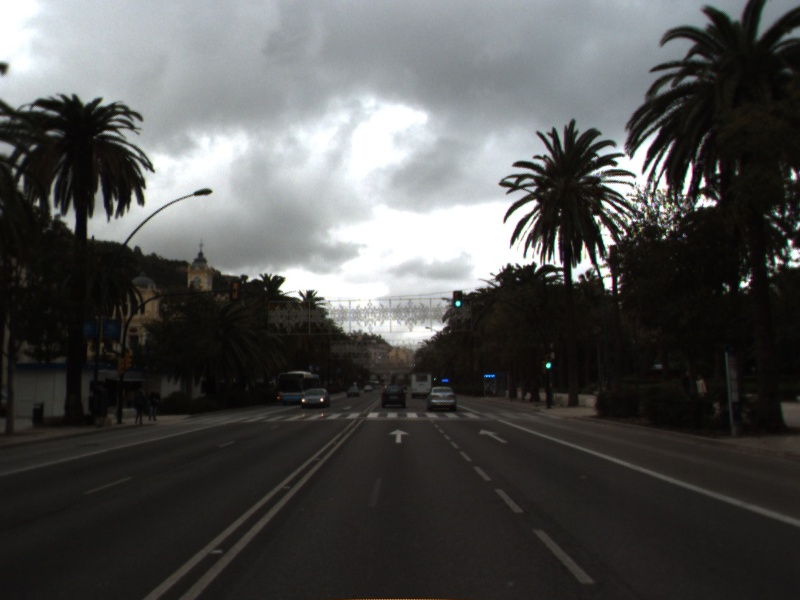STRAIGHT: (476, 426, 510, 445), (386, 427, 411, 445)
